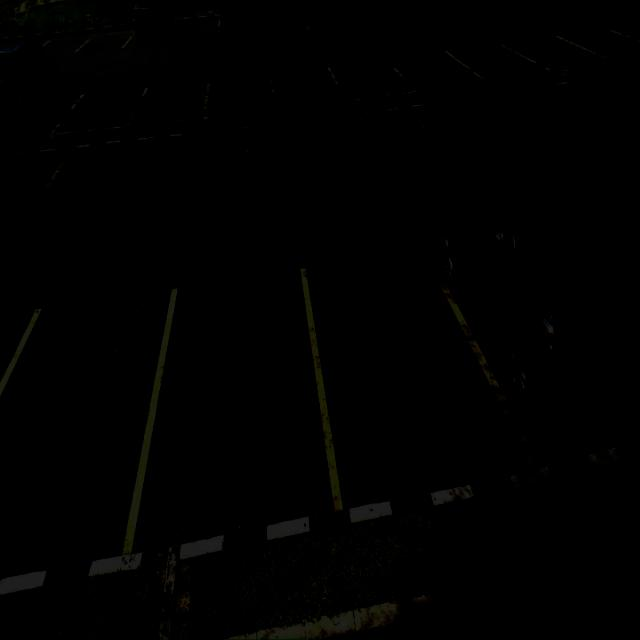empty: (147, 280, 320, 550), (317, 248, 475, 504), (0, 303, 148, 574), (48, 136, 249, 190), (244, 116, 435, 166), (67, 86, 144, 129), (142, 79, 211, 122), (204, 73, 274, 113), (402, 50, 468, 92), (336, 60, 403, 100), (272, 68, 336, 109), (80, 22, 130, 52), (172, 12, 218, 41)
occupied: (454, 168, 640, 453), (0, 55, 64, 138), (128, 0, 174, 47), (218, 0, 262, 36), (261, 0, 304, 32), (302, 0, 345, 29)
